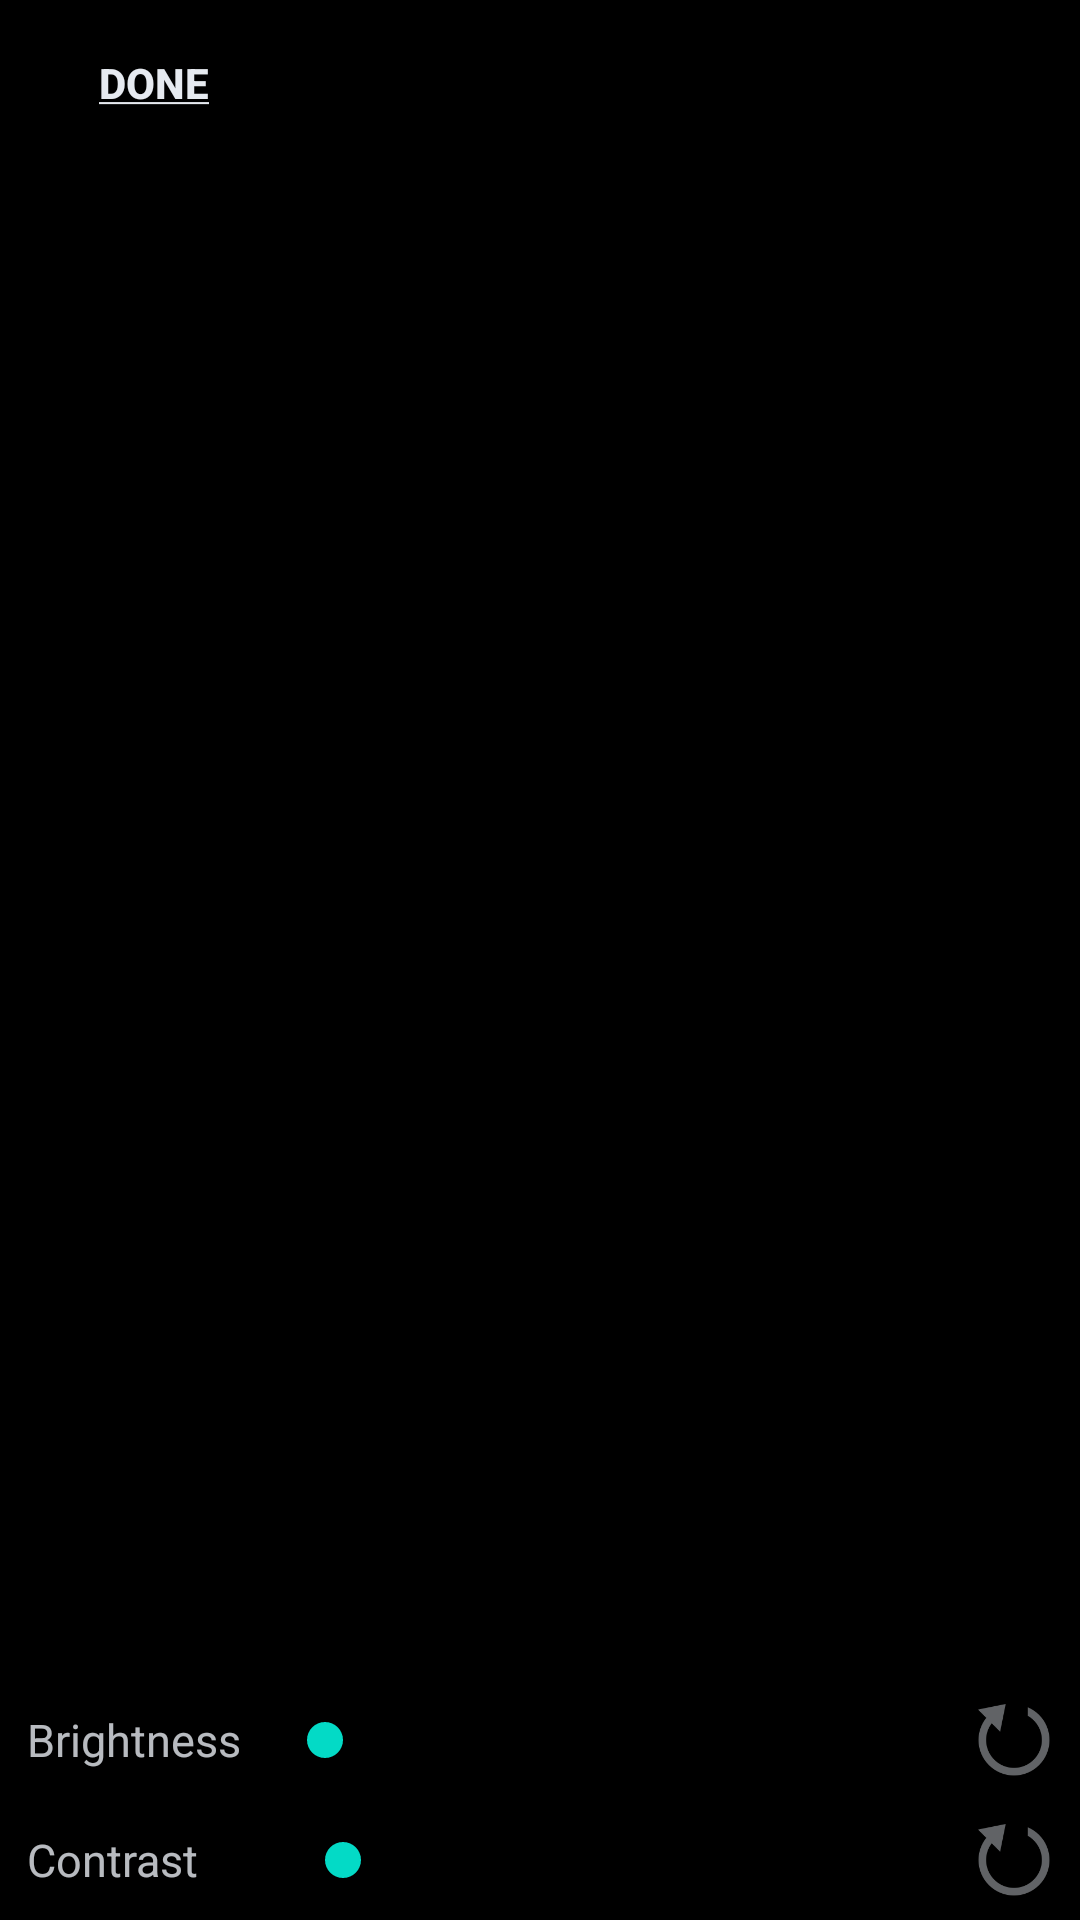

Where icons sit on this 1080 × 1920 app screen, as (x1, y1, x2, y2):
reset: (978, 1704, 1050, 1776), (978, 1824, 1050, 1896)
